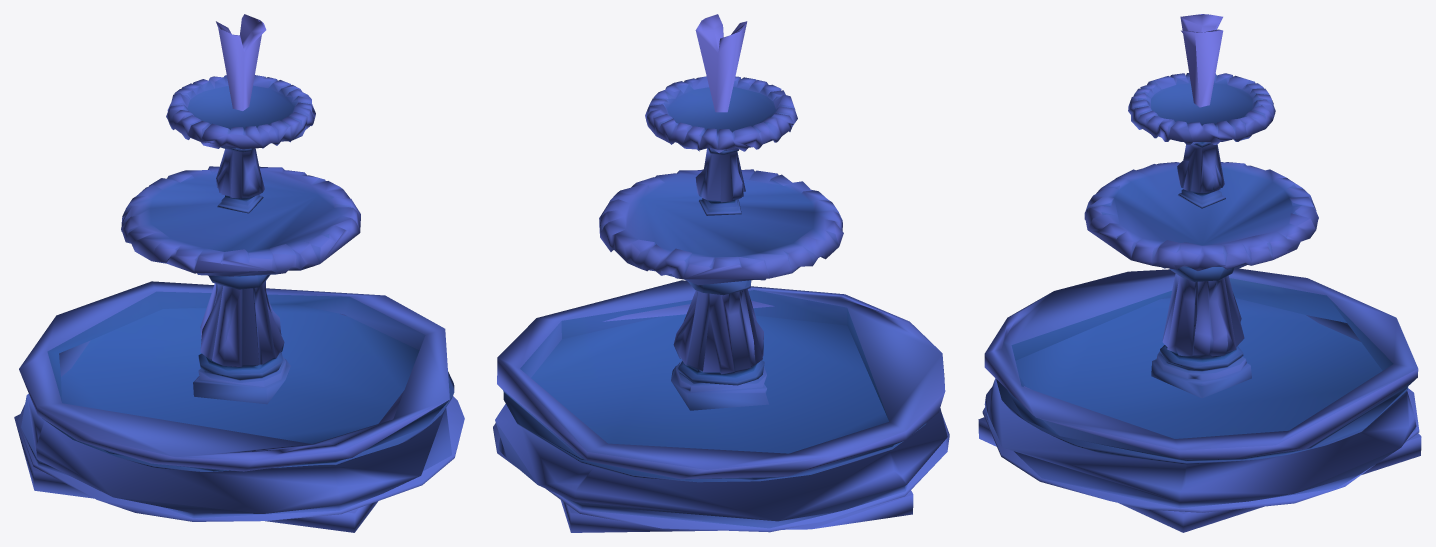
The model's file is model.progressive.glb.
3 views of the same model, side by side, from view 1: azimuth 30°, elevation 25°; view 2: azimuth 150°, elevation 25°; view 3: azimuth 270°, elevation 25° (orthographic). The views are drawn at different scales.
Parts seen in each view (by area): view 1: material; view 2: material; view 3: material.
Part boxes in pixels (x1,y1,x2,y2): material: [14, 14, 464, 532]; material: [493, 14, 949, 532]; material: [978, 14, 1421, 532].
Bounding box in the file's own units: 1.85 × 1.9 × 1.83.
1 material, 1 textured.
